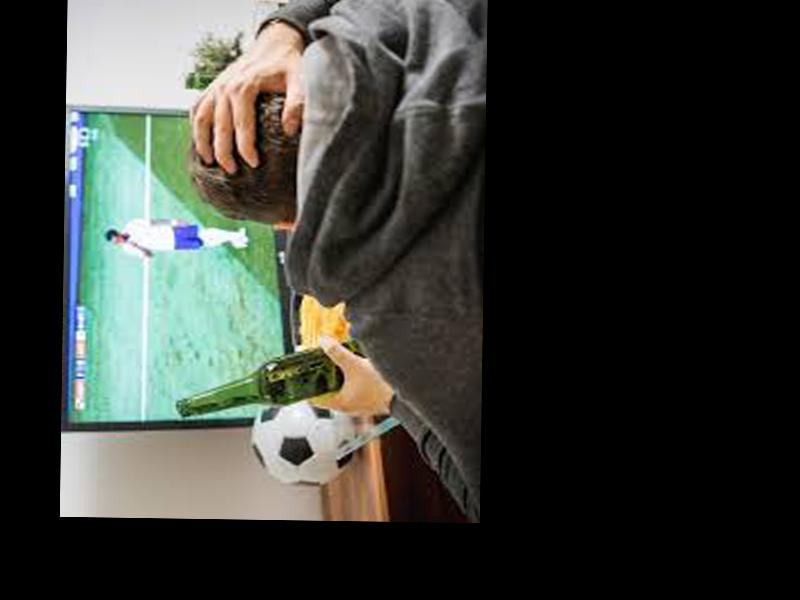Beer: (176, 343, 370, 419)
